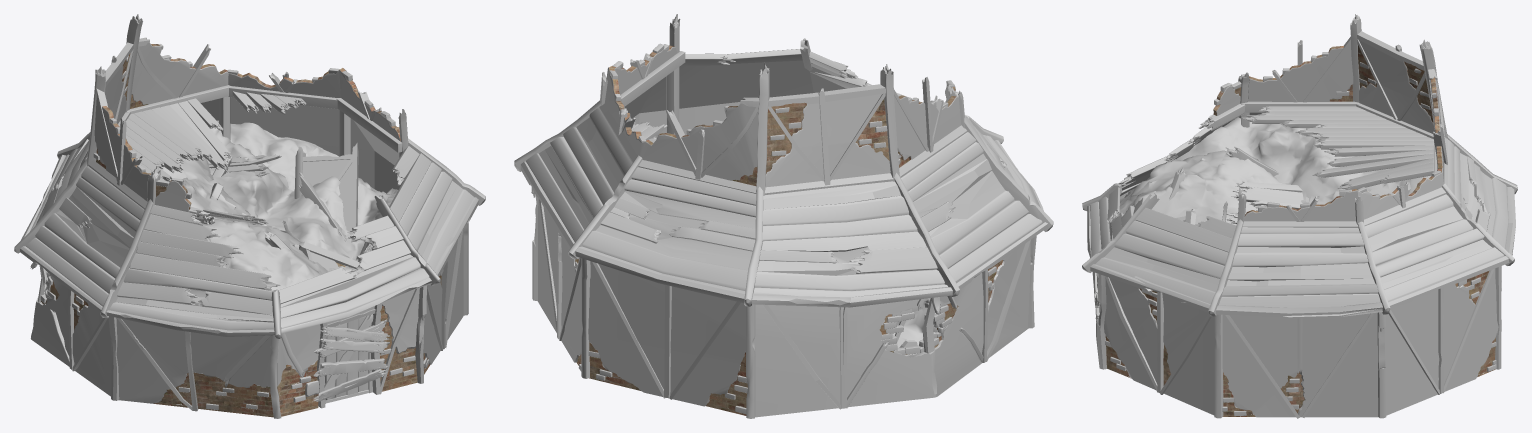
3 views of the same model, side by side, from view 1: azimuth 30°, elevation 25°; view 2: azimuth 150°, elevation 25°; view 3: azimuth 270°, elevation 25° (orthographic). The views are drawn at different scales.
Parts seen in each view (by area): view 1: SM_Windmill_01v3_Top_LOD0; view 2: SM_Windmill_01v3_Top_LOD0; view 3: SM_Windmill_01v3_Top_LOD0.
Boxes of the visible parts, x1,y1,x2,y2 form: SM_Windmill_01v3_Top_LOD0: (14, 14, 485, 418); SM_Windmill_01v3_Top_LOD0: (514, 14, 1053, 418); SM_Windmill_01v3_Top_LOD0: (1082, 14, 1517, 418).
Bounding box in the file's own units: 11.17 × 7.72 × 11.16.
